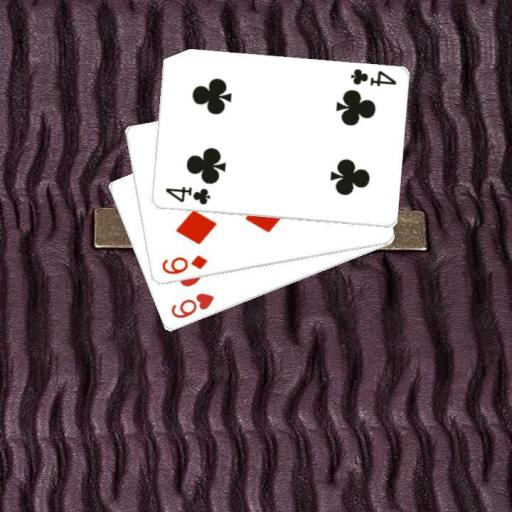4C: (347, 66, 398, 89), (162, 184, 212, 207)
6D: (158, 253, 208, 277)
6H: (167, 290, 216, 321)
